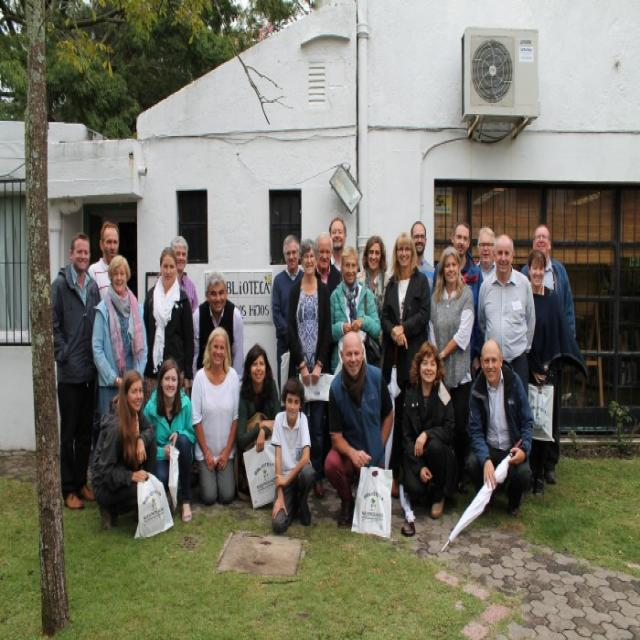body: (525, 247, 589, 496), (49, 232, 102, 512), (324, 329, 396, 532), (378, 228, 434, 488), (464, 336, 535, 518), (426, 245, 476, 497), (283, 235, 330, 482), (92, 368, 158, 532), (476, 232, 537, 404), (399, 338, 456, 522), (90, 253, 150, 416), (190, 324, 242, 507), (142, 357, 196, 523), (266, 373, 318, 540), (140, 244, 196, 398), (436, 218, 484, 380), (519, 224, 577, 350), (191, 269, 247, 394), (329, 243, 382, 375), (271, 232, 306, 405), (234, 340, 284, 454), (154, 233, 199, 314), (356, 234, 392, 324), (87, 218, 121, 301), (410, 218, 438, 296), (314, 232, 344, 295), (474, 224, 498, 280), (328, 216, 348, 273)
